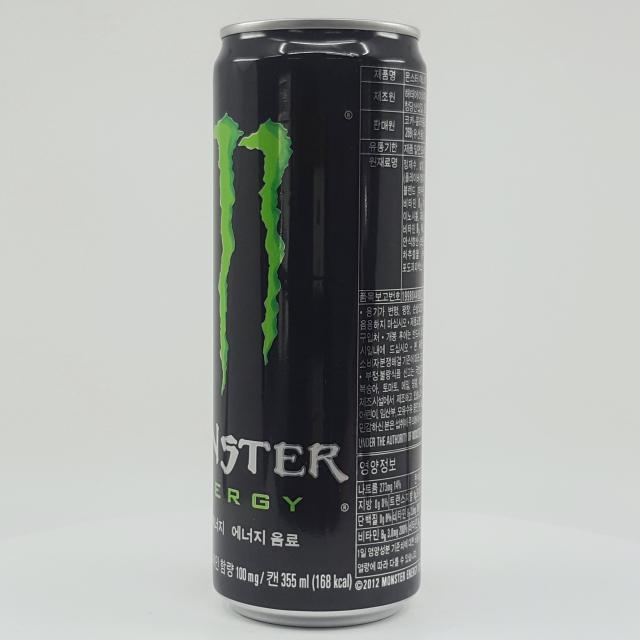--------355ML: (212, 18, 426, 628)
